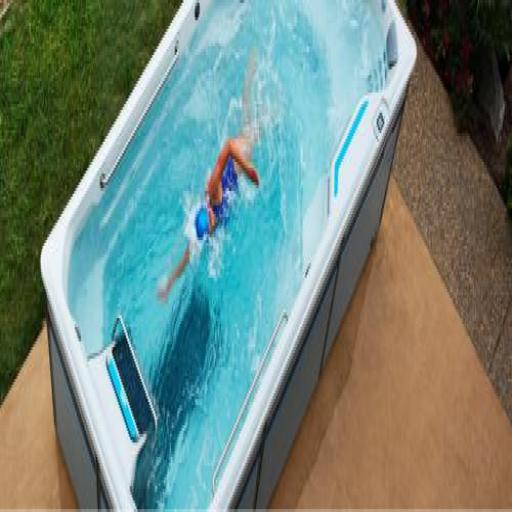swimming: (155, 128, 261, 310)
